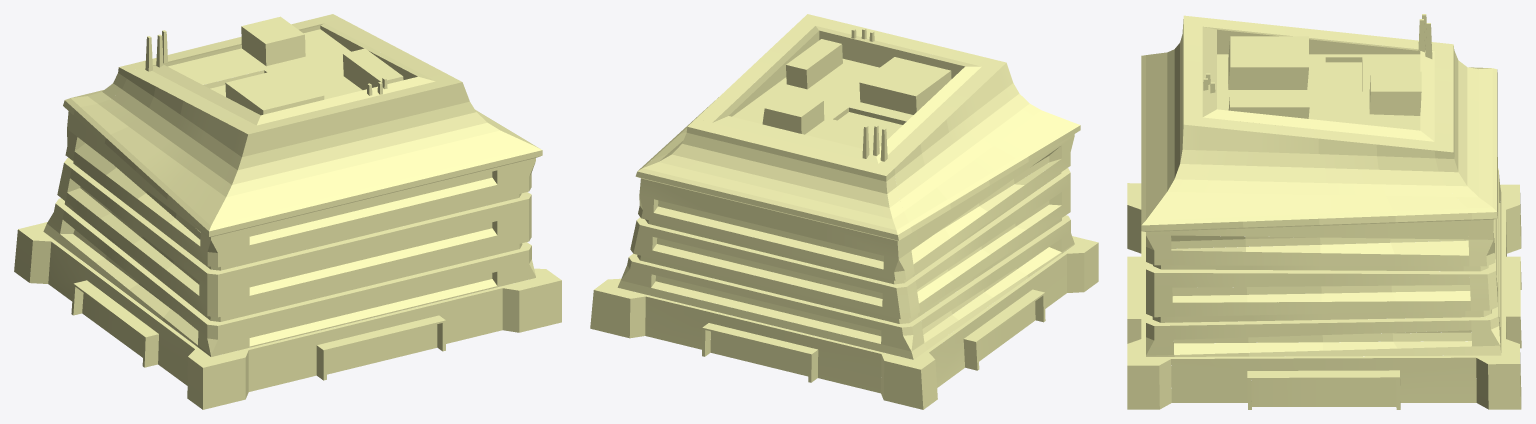
The model's file is MangaKa Props - F_S_ScifiBuilding_28.glb.
The picture shows the model from 3 angles, left to right: view 1: azimuth 30°, elevation 25°; view 2: azimuth 150°, elevation 25°; view 3: azimuth 270°, elevation 25°; orthographic projection. The views are drawn at different scales.
Visible parts, largest first — view 1: F_S_ScifiBuilding_28_blueScreen, F_S_ScifiBuilding_28004_blueScreen, F_S_ScifiBuilding_28001_blueScreen, F_S_ScifiBuilding_28003_blueScreen, F_S_ScifiBuilding_28002_blueScreen; view 2: F_S_ScifiBuilding_28_blueScreen, F_S_ScifiBuilding_28004_blueScreen, F_S_ScifiBuilding_28001_blueScreen, F_S_ScifiBuilding_28003_blueScreen, F_S_ScifiBuilding_28002_blueScreen; view 3: F_S_ScifiBuilding_28_blueScreen, F_S_ScifiBuilding_28004_blueScreen, F_S_ScifiBuilding_28003_blueScreen, F_S_ScifiBuilding_28001_blueScreen, F_S_ScifiBuilding_28002_blueScreen.
Boxes of the visible parts, x1,y1,x2,y2 form: F_S_ScifiBuilding_28_blueScreen: (29, 19, 542, 391); F_S_ScifiBuilding_28004_blueScreen: (14, 14, 561, 409); F_S_ScifiBuilding_28001_blueScreen: (60, 137, 497, 346); F_S_ScifiBuilding_28003_blueScreen: (73, 166, 492, 374); F_S_ScifiBuilding_28002_blueScreen: (73, 167, 522, 321); F_S_ScifiBuilding_28_blueScreen: (617, 14, 1080, 393); F_S_ScifiBuilding_28004_blueScreen: (590, 26, 1098, 409); F_S_ScifiBuilding_28001_blueScreen: (651, 145, 1061, 343); F_S_ScifiBuilding_28003_blueScreen: (655, 156, 1049, 376); F_S_ScifiBuilding_28002_blueScreen: (637, 172, 1061, 323); F_S_ScifiBuilding_28_blueScreen: (1141, 15, 1506, 402); F_S_ScifiBuilding_28004_blueScreen: (1127, 14, 1521, 409); F_S_ScifiBuilding_28003_blueScreen: (1171, 236, 1471, 406); F_S_ScifiBuilding_28001_blueScreen: (1171, 191, 1500, 354); F_S_ScifiBuilding_28002_blueScreen: (1152, 265, 1491, 322).
Bounding box in the file's own units: 11.43 × 7.49 × 10.39.
